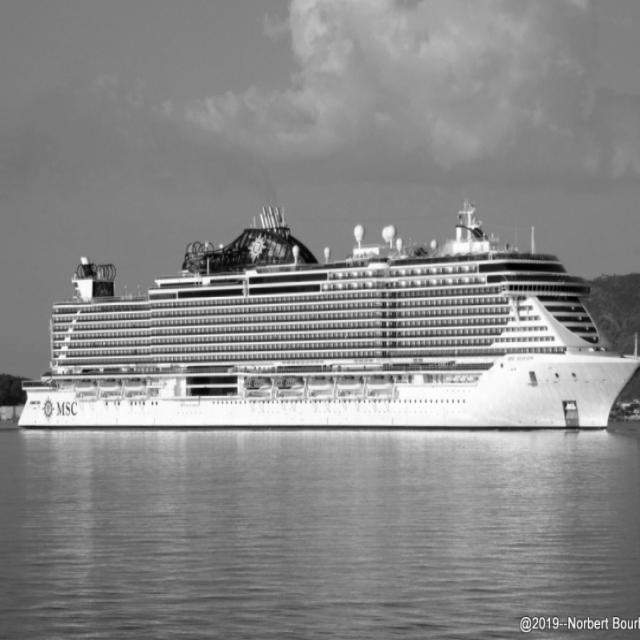cruises: (13, 200, 640, 442)
